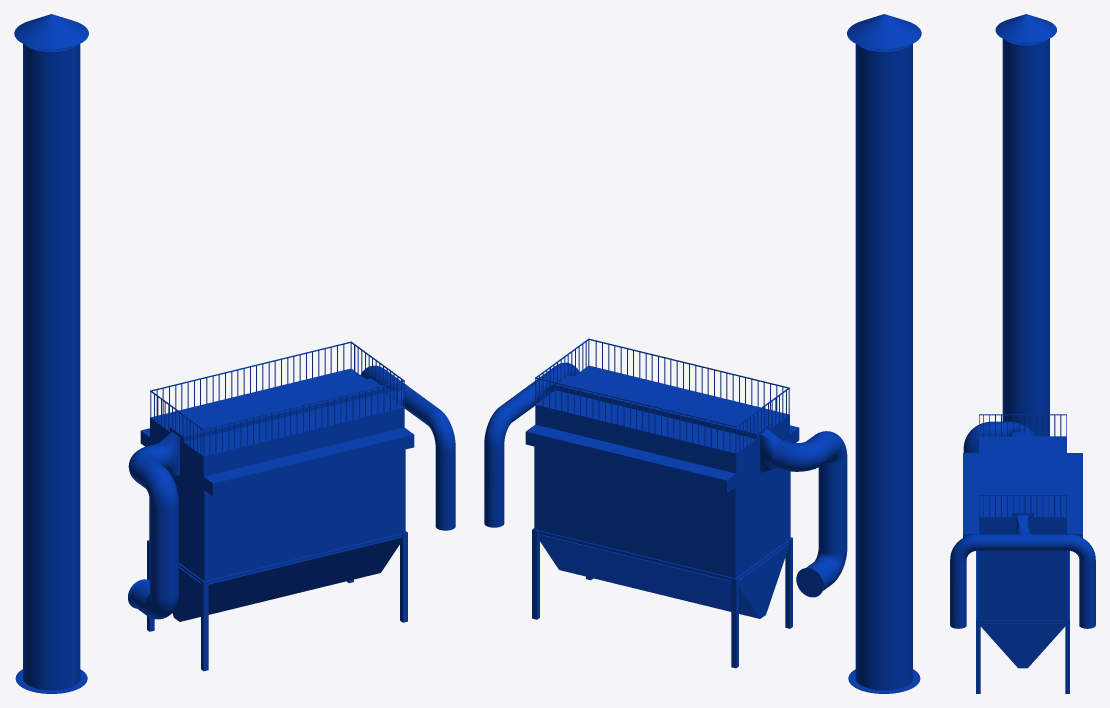
Rendered from 单独的一个电炉.gltf.
3 renders of one model, left to right at view 1: azimuth 30°, elevation 25°; view 2: azimuth 150°, elevation 25°; view 3: azimuth 270°, elevation 25°, orthographic. The views are drawn at different scales.
Parts seen in each view (by area): view 1: 除尘-电炉; view 2: 除尘-电炉; view 3: 除尘-电炉.
Boxes of the visible parts, x1,y1,x2,y2 form: 除尘-电炉: [14, 14, 455, 693]; 除尘-电炉: [484, 14, 921, 693]; 除尘-电炉: [950, 14, 1095, 693].
Size of the model in its own units: 96.09 by 155 by 37.28.
